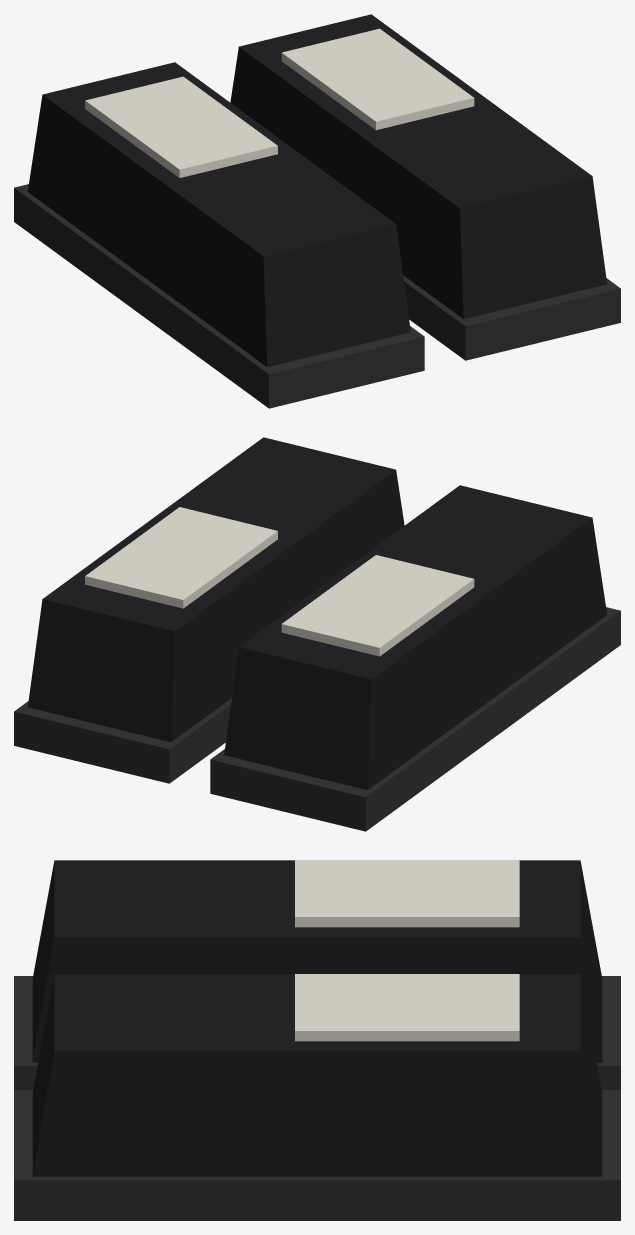
The model's file is FD_Shoes_Pair_01.glb.
The picture shows the model from 3 angles, top to bottom: view 1: azimuth 30°, elevation 25°; view 2: azimuth 150°, elevation 25°; view 3: azimuth 270°, elevation 25°; orthographic projection. The views are drawn at different scales.
Visible parts, largest first — view 1: FD_Shoes_Pair_01; view 2: FD_Shoes_Pair_01; view 3: FD_Shoes_Pair_01.
Boxes of the visible parts, left/top/right/bottom form: FD_Shoes_Pair_01: left=14, top=14, right=620, bottom=408; FD_Shoes_Pair_01: left=14, top=437, right=620, bottom=831; FD_Shoes_Pair_01: left=14, top=860, right=620, bottom=1220.
Bounding box in the file's own units: 0.215 × 0.085 × 0.27.
1 material, 1 textured.
